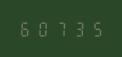five: (86, 20, 102, 37)
seven: (52, 20, 68, 37)
six: (18, 20, 34, 37)
three: (69, 20, 85, 37)
zero: (35, 20, 51, 37)
